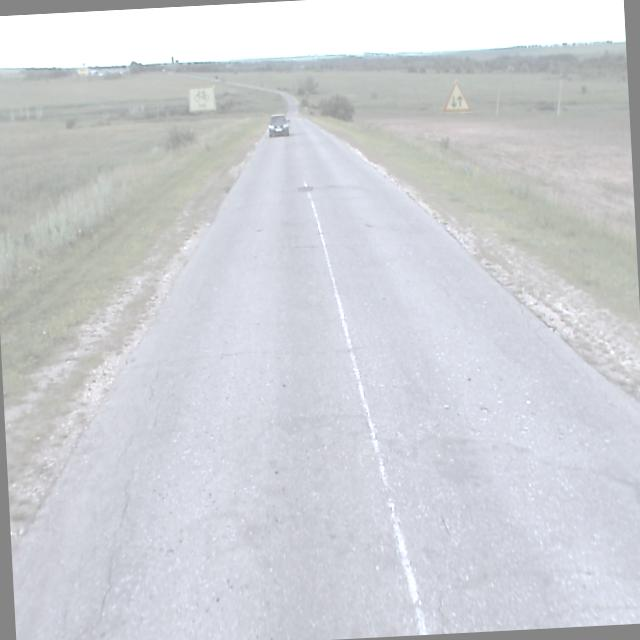road: (12, 112, 640, 640)
